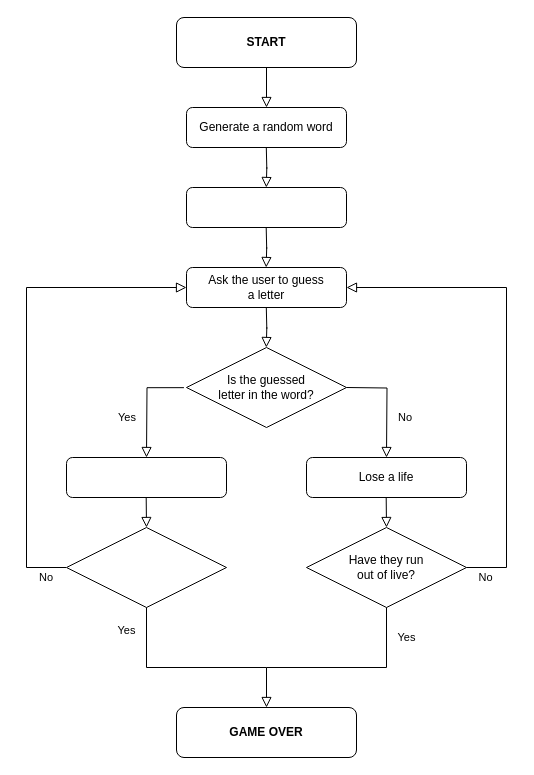
The diagram is 534 pixels wide and 775 high, and some of its shapes have lost their labels. The shapes that lost their labels are listed below. From the top down, each one's centre as x and y in pixels, then its label:
At point (266, 207): "Generate as many blanks as letters in word".
At point (146, 477): "Replace the blank with the letter".
At point (146, 567): "Are all the blanks filled?".
